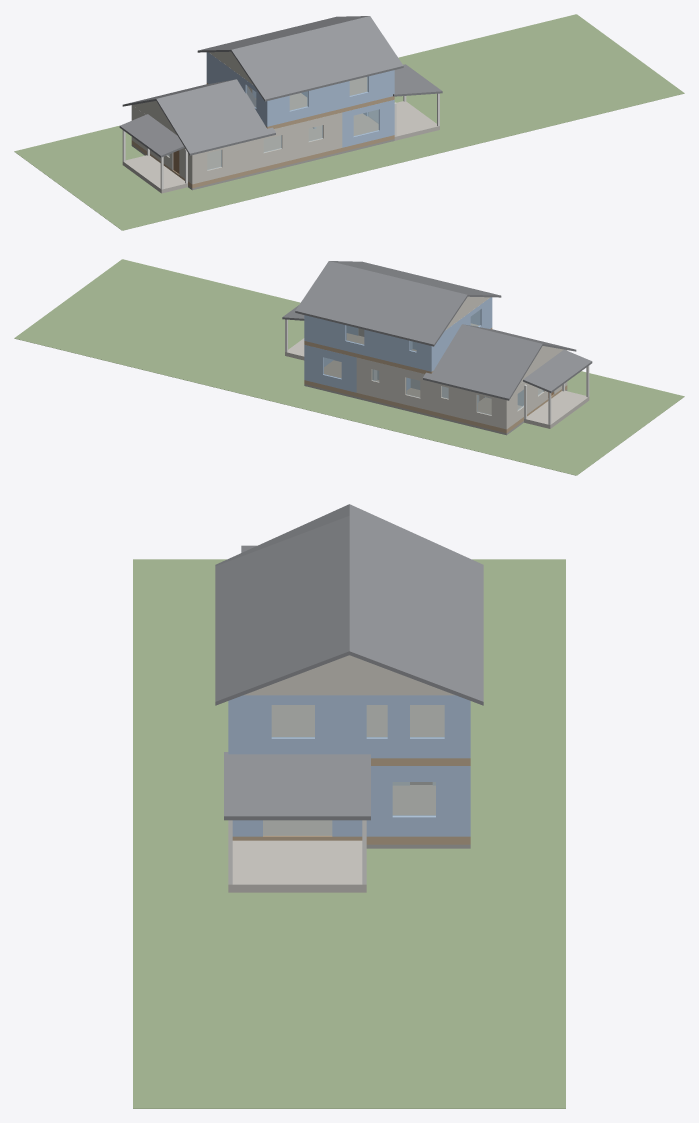
File: house.glb
The picture shows the model from 3 angles, top to bottom: view 1: azimuth 30°, elevation 25°; view 2: azimuth 150°, elevation 25°; view 3: azimuth 270°, elevation 25°; orthographic projection. The views are drawn at different scales.
Parts seen in each view (by area): view 1: lot, roof.upper, roof.front, main.walls.kept, upper.walls.new, main.floor, roof.front-porch, porch.front-porch.floor, porch.rear-porch.floor, upper.floor, main.walls.new, roof.rear-porch (+8 smaller); view 2: lot, roof.upper, roof.front, main.walls.kept, upper.walls.new, main.floor, roof.front-porch, main.walls.new, porch.front-porch.floor, upper.floor, foundation, roof.front.gable (+3 smaller); view 3: lot, roof.upper, roof.rear-porch, upper.walls.new, porch.rear-porch.floor, main.walls.new, roof.upper.gable, main.floor, upper.floor, roof.front, main.window.w-primary-rear.wall, main.window.w-primary-rear.glass (+5 smaller).
Boxes of the visible parts, x1,y1,x2,y2 form: lot: (14,14,684,230); roof.upper: (197,16,403,101); roof.front: (122,79,275,155); main.walls.kept: (131,105,342,184); upper.walls.new: (206,52,394,126); main.floor: (131,113,394,188); roof.front-porch: (119,114,184,157); porch.front-porch.floor: (122,155,187,193); porch.rear-porch.floor: (369,101,439,140); upper.floor: (206,77,394,128); main.walls.new: (342,100,394,147); roof.rear-porch: (393,64,442,96); lot: (14,259,684,475); roof.upper: (295,261,501,346); roof.front: (423,324,576,400); main.walls.kept: (356,350,567,429); upper.walls.new: (304,297,492,371); main.floor: (304,360,567,433); roof.front-porch: (523,349,592,392); main.walls.new: (304,345,410,392); porch.front-porch.floor: (524,390,589,428); upper.floor: (304,323,492,373); foundation: (304,384,567,435); roof.front.gable: (519,346,566,384); lot: (133,559,565,1108); roof.upper: (215,516,483,705); roof.rear-porch: (224,752,370,820); upper.walls.new: (228,695,470,758); porch.rear-porch.floor: (228,840,366,892); main.walls.new: (232,766,470,836); roof.upper.gable: (244,655,454,695); main.floor: (232,785,470,844); upper.floor: (272,705,470,765); roof.front: (215,504,483,566); main.window.w-primary-rear.wall: (392,766,435,836); main.window.w-primary-rear.glass: (392,782,435,815).
Size of what is drawn, in the model's own units: 45.72 by 7.89 by 15.24.
